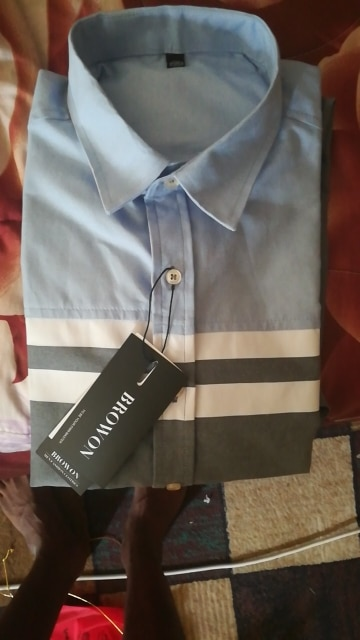shirts: (1, 12, 334, 498)
